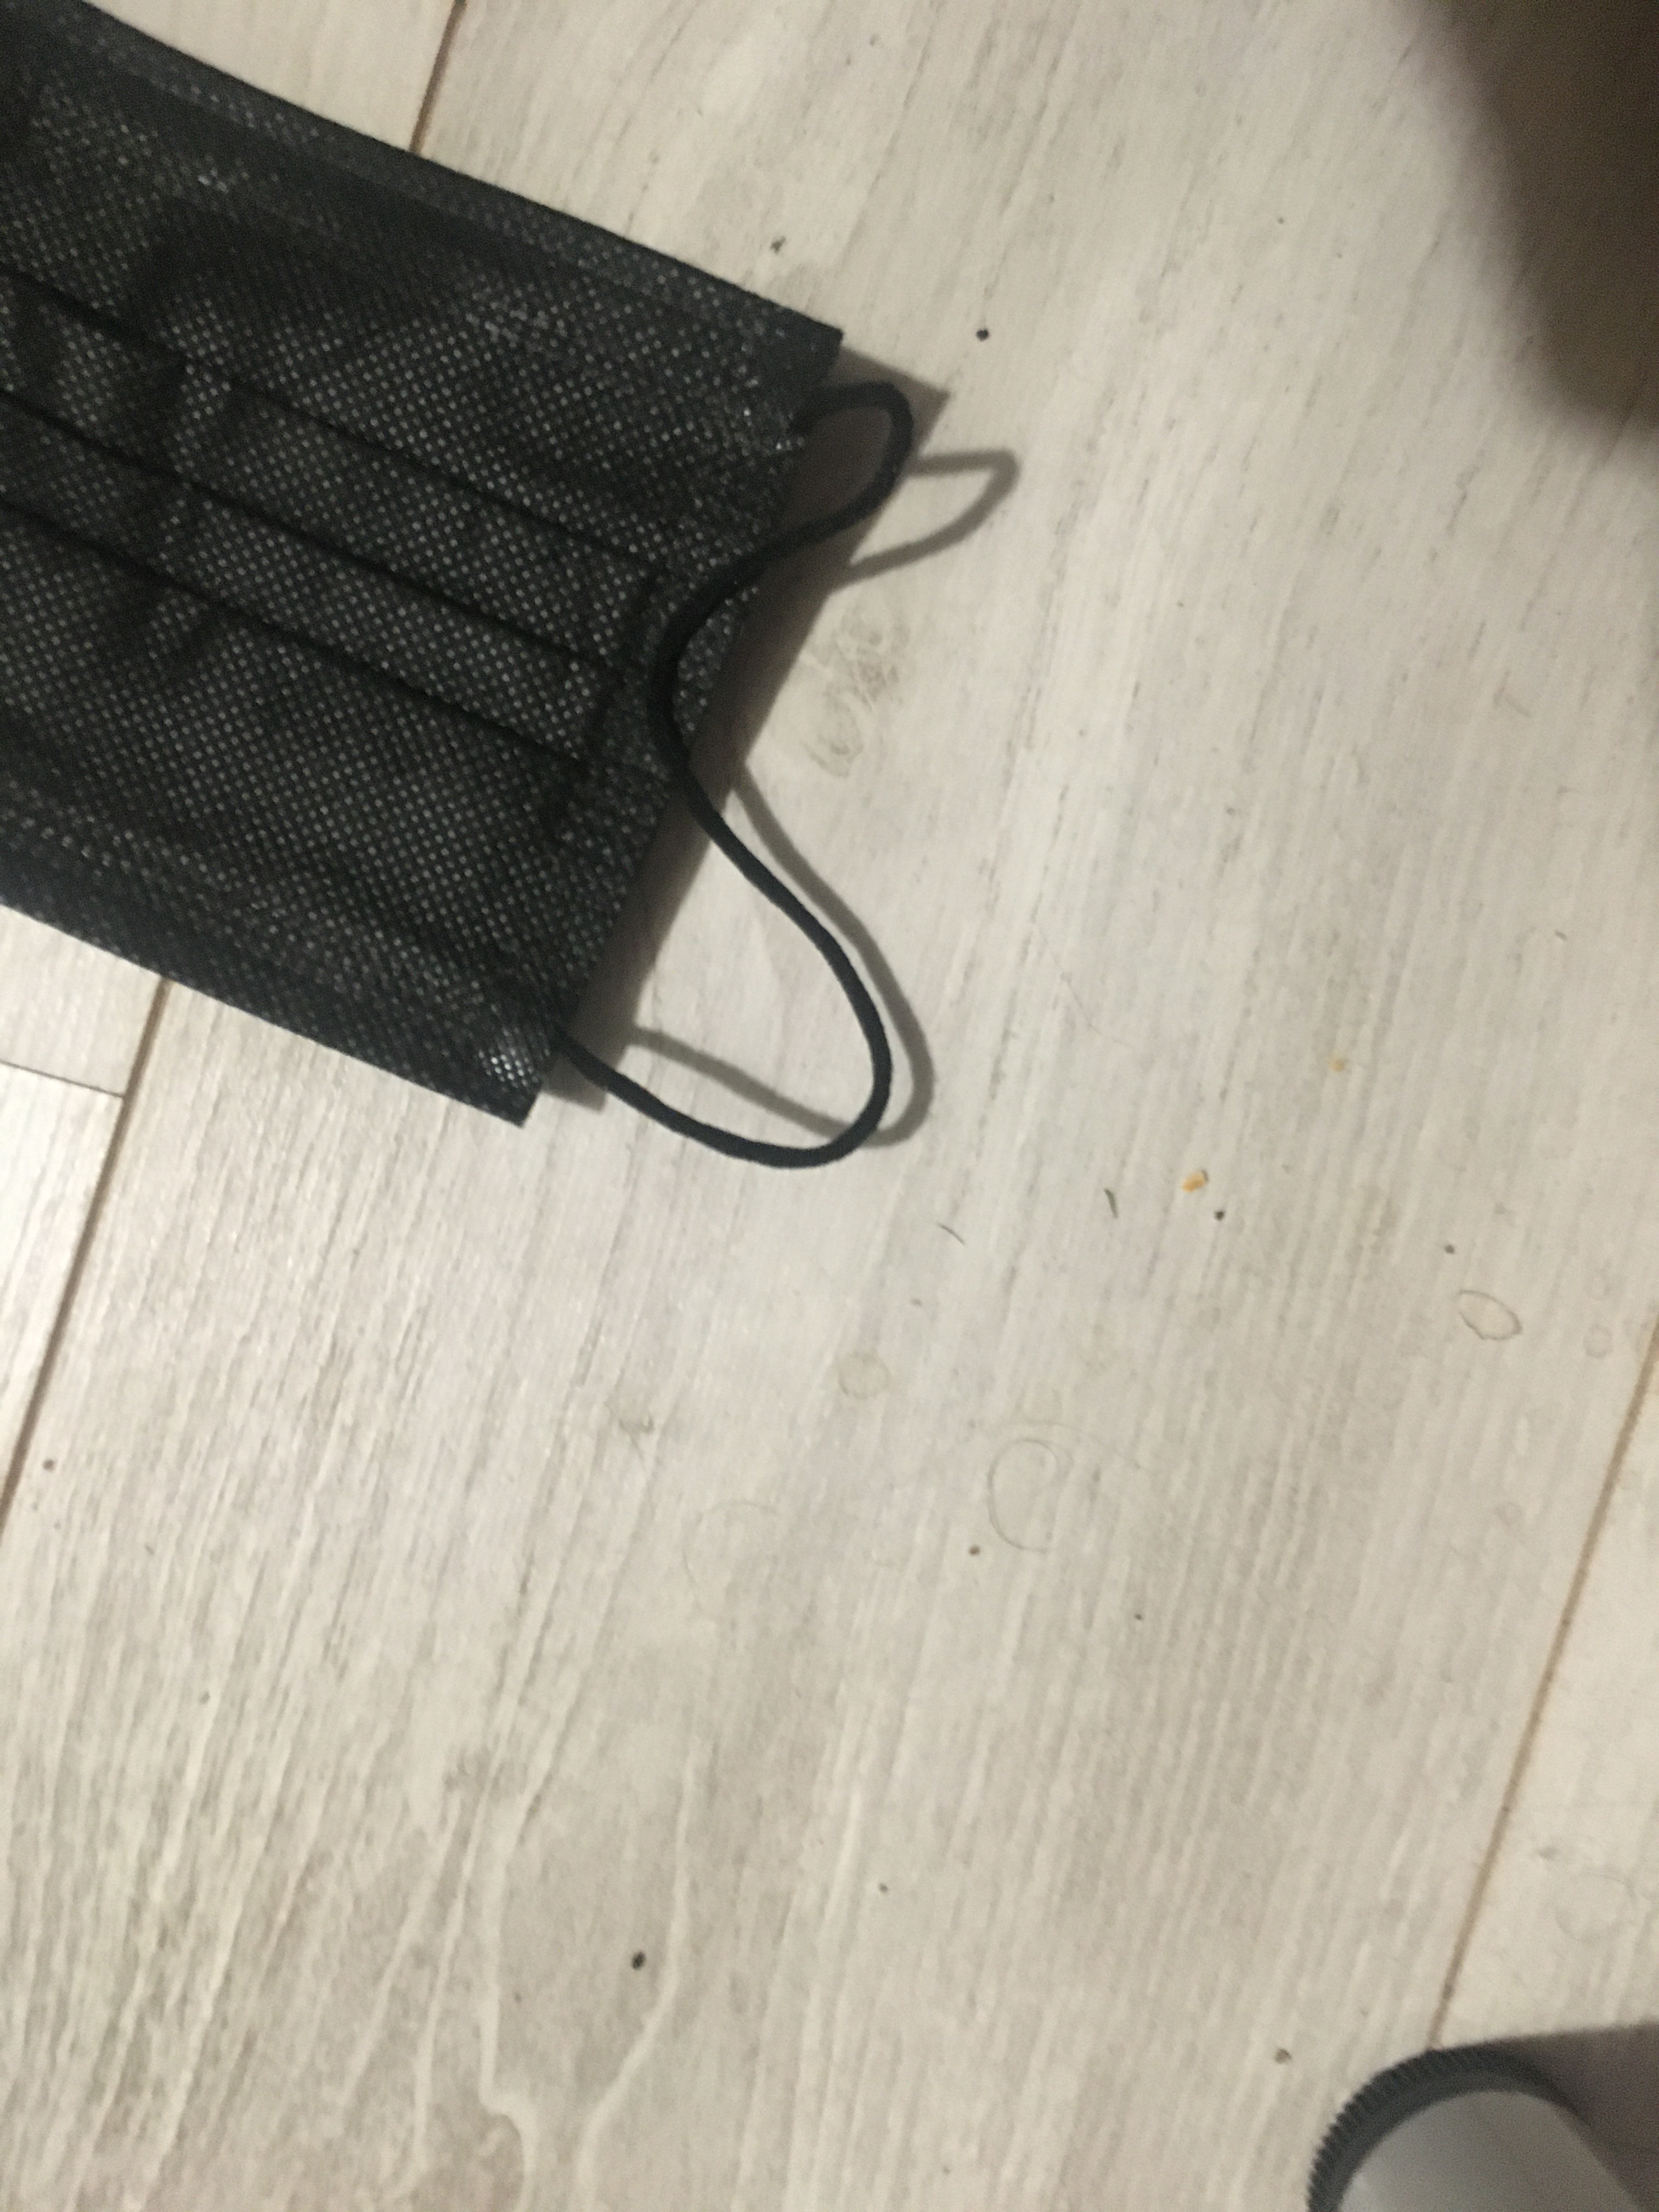trash: (19, 7, 906, 1170)
